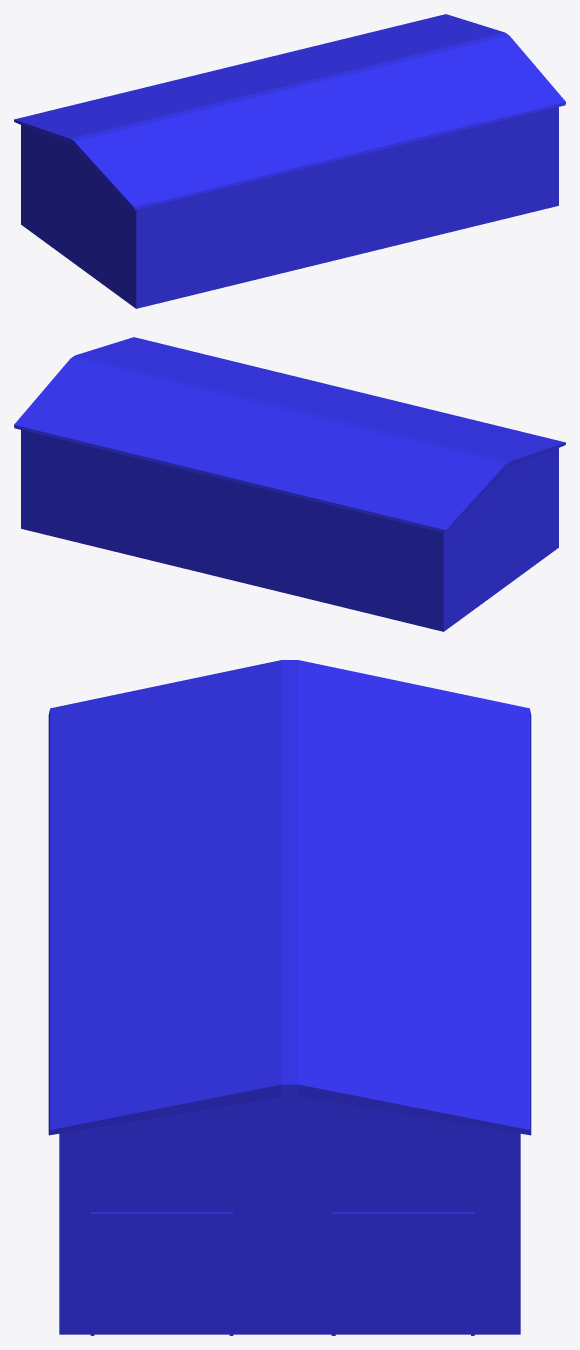
Rendered from Building_08.fbx.
3 views of the same model, one above another, from view 1: azimuth 30°, elevation 25°; view 2: azimuth 150°, elevation 25°; view 3: azimuth 270°, elevation 25° (orthographic). The views are drawn at different scales.
Parts seen in each view (by area): view 1: Building_08; view 2: Building_08; view 3: Building_08.
Boxes of the visible parts, x1=… form: Building_08: x1=14, y1=14, x2=565, y2=308; Building_08: x1=14, y1=337, x2=565, y2=631; Building_08: x1=48, y1=660, x2=531, y2=1335.
Size of the model in its own units: 2491 by 700 by 1196.
